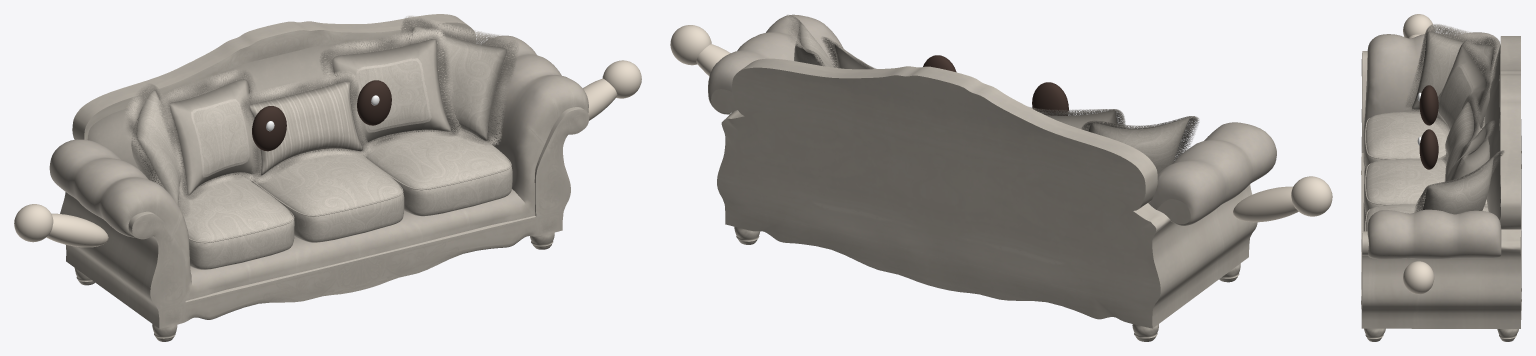
Rendered from sofa.glb.
3 renders of one model, left to right at view 1: azimuth 30°, elevation 25°; view 2: azimuth 150°, elevation 25°; view 3: azimuth 270°, elevation 25°, orthographic. The views are drawn at different scales.
Visible parts, largest first — view 1: Frame, Paisley, Fringe, Brown, Stripes, Frame_Fabric, Eye (×2), Arm (×2), Hand (×2); view 2: Frame, Paisley, Hand (×2), Fringe, Arm (×2), Brown, Eye; view 3: Frame, Paisley, Fringe, Brown, Frame_Fabric, Stripes, Hand (×2), Eye (×2).
Part boxes in pixels (x1=…): Frame: x1=49, y1=14, x2=589, y2=341; Paisley: x1=131, y1=26, x2=512, y2=269; Fringe: x1=124, y1=15, x2=518, y2=218; Brown: x1=169, y1=39, x2=511, y2=243; Stripes: x1=190, y1=58, x2=431, y2=177; Frame_Fabric: x1=88, y1=31, x2=472, y2=168; Eye (×2): x1=252, y1=80, x2=391, y2=151; Arm (×2): x1=46, y1=78, x2=617, y2=247; Hand (×2): x1=14, y1=60, x2=641, y2=242; Frame: x1=708, y1=14, x2=1276, y2=341; Paisley: x1=794, y1=22, x2=1190, y2=173; Hand (×2): x1=670, y1=25, x2=1332, y2=216; Fringe: x1=784, y1=14, x2=1199, y2=161; Arm (×2): x1=696, y1=44, x2=1298, y2=222; Brown: x1=834, y1=42, x2=1116, y2=130; Eye: x1=1032, y1=82, x2=1068, y2=115; Frame: x1=1361, y1=32, x2=1521, y2=341; Paisley: x1=1364, y1=31, x2=1493, y2=231; Fringe: x1=1403, y1=24, x2=1504, y2=212; Brown: x1=1365, y1=46, x2=1489, y2=231; Frame_Fabric: x1=1484, y1=45, x2=1500, y2=220; Stripes: x1=1438, y1=64, x2=1480, y2=180; Hand (×2): x1=1403, y1=14, x2=1434, y2=294; Eye (×2): x1=1419, y1=85, x2=1438, y2=169.
Size of the model in its own units: 3.56 by 1.12 by 0.9232.
9 materials, 6 textured.
